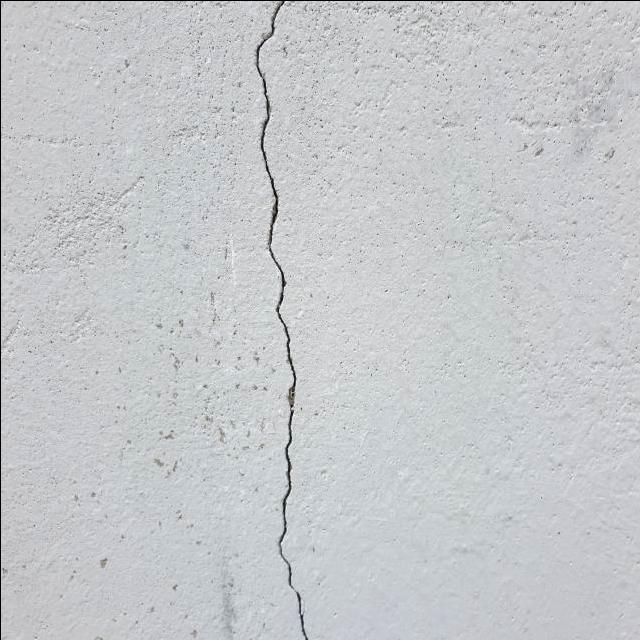SurfaceCrack: (220, 1, 352, 639)
